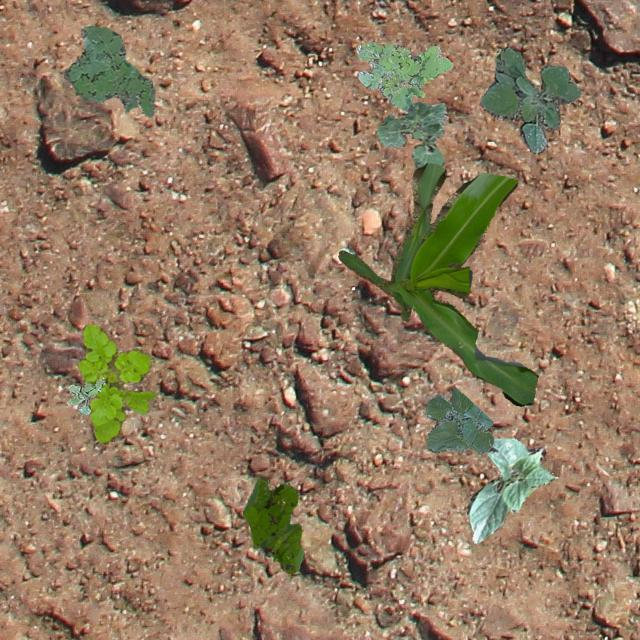crop: (338, 162, 536, 406), (466, 438, 556, 542), (426, 386, 492, 452), (376, 100, 446, 146), (408, 120, 444, 168)
weed: (478, 46, 580, 152), (76, 324, 156, 444), (63, 26, 154, 116), (354, 40, 452, 110), (242, 473, 302, 572), (65, 376, 104, 414)
